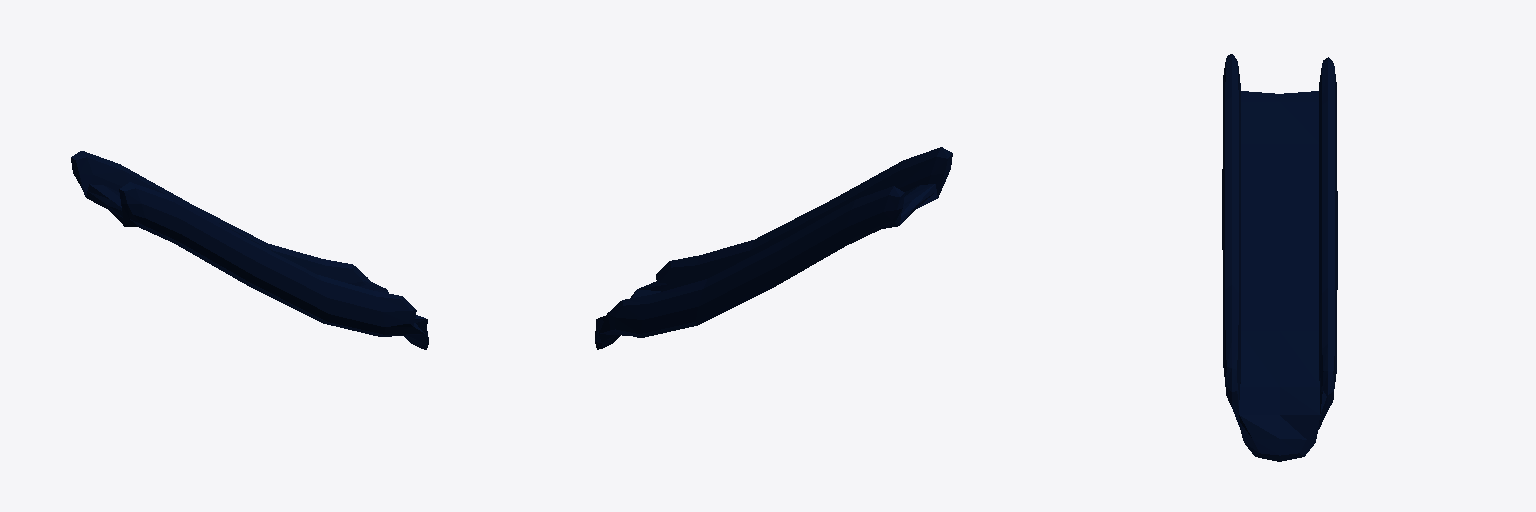
The model's file is playground_slide.obj.
3 views of the same model, side by side, from view 1: azimuth 30°, elevation 25°; view 2: azimuth 150°, elevation 25°; view 3: azimuth 270°, elevation 25° (orthographic).
Visible parts, largest first — view 1: Plane; view 2: Plane; view 3: Plane.
Boxes of the visible parts, x1,y1,x2,y2 form: Plane: [71, 151, 428, 349]; Plane: [595, 147, 952, 349]; Plane: [1222, 54, 1337, 461].
Size of the model in its own units: 0.6495 by 0.4934 by 0.2008.